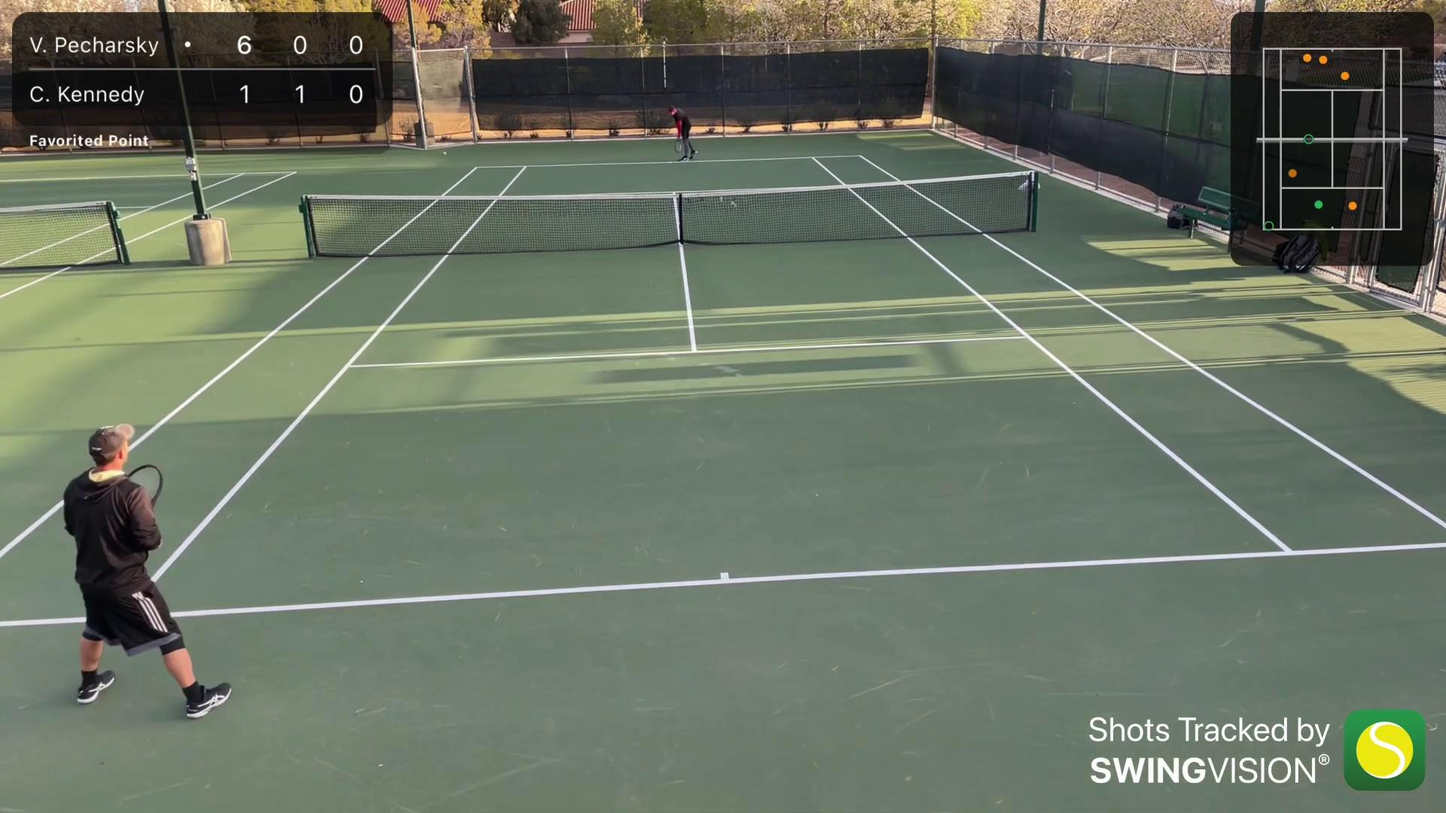ball: (184, 41, 191, 48), (442, 151, 447, 157)
